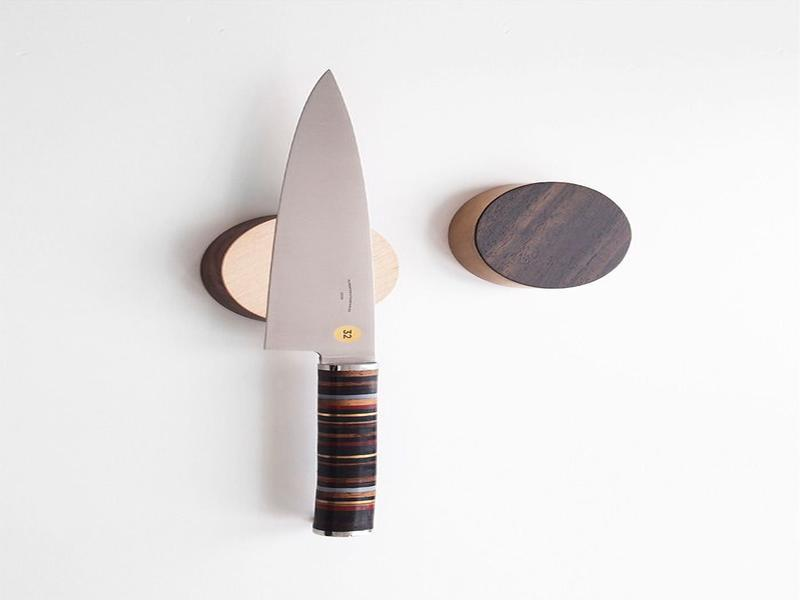KNIFE: (259, 66, 387, 542)
